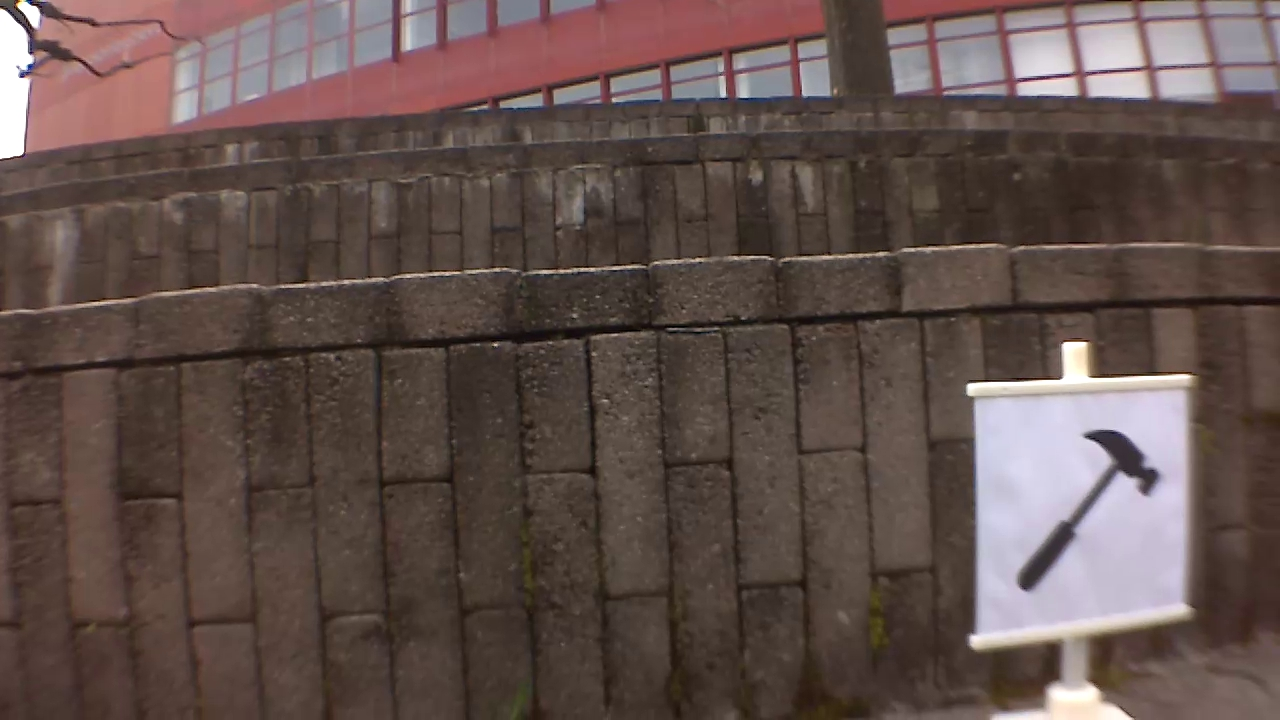hammer: (1007, 417, 1169, 599)
